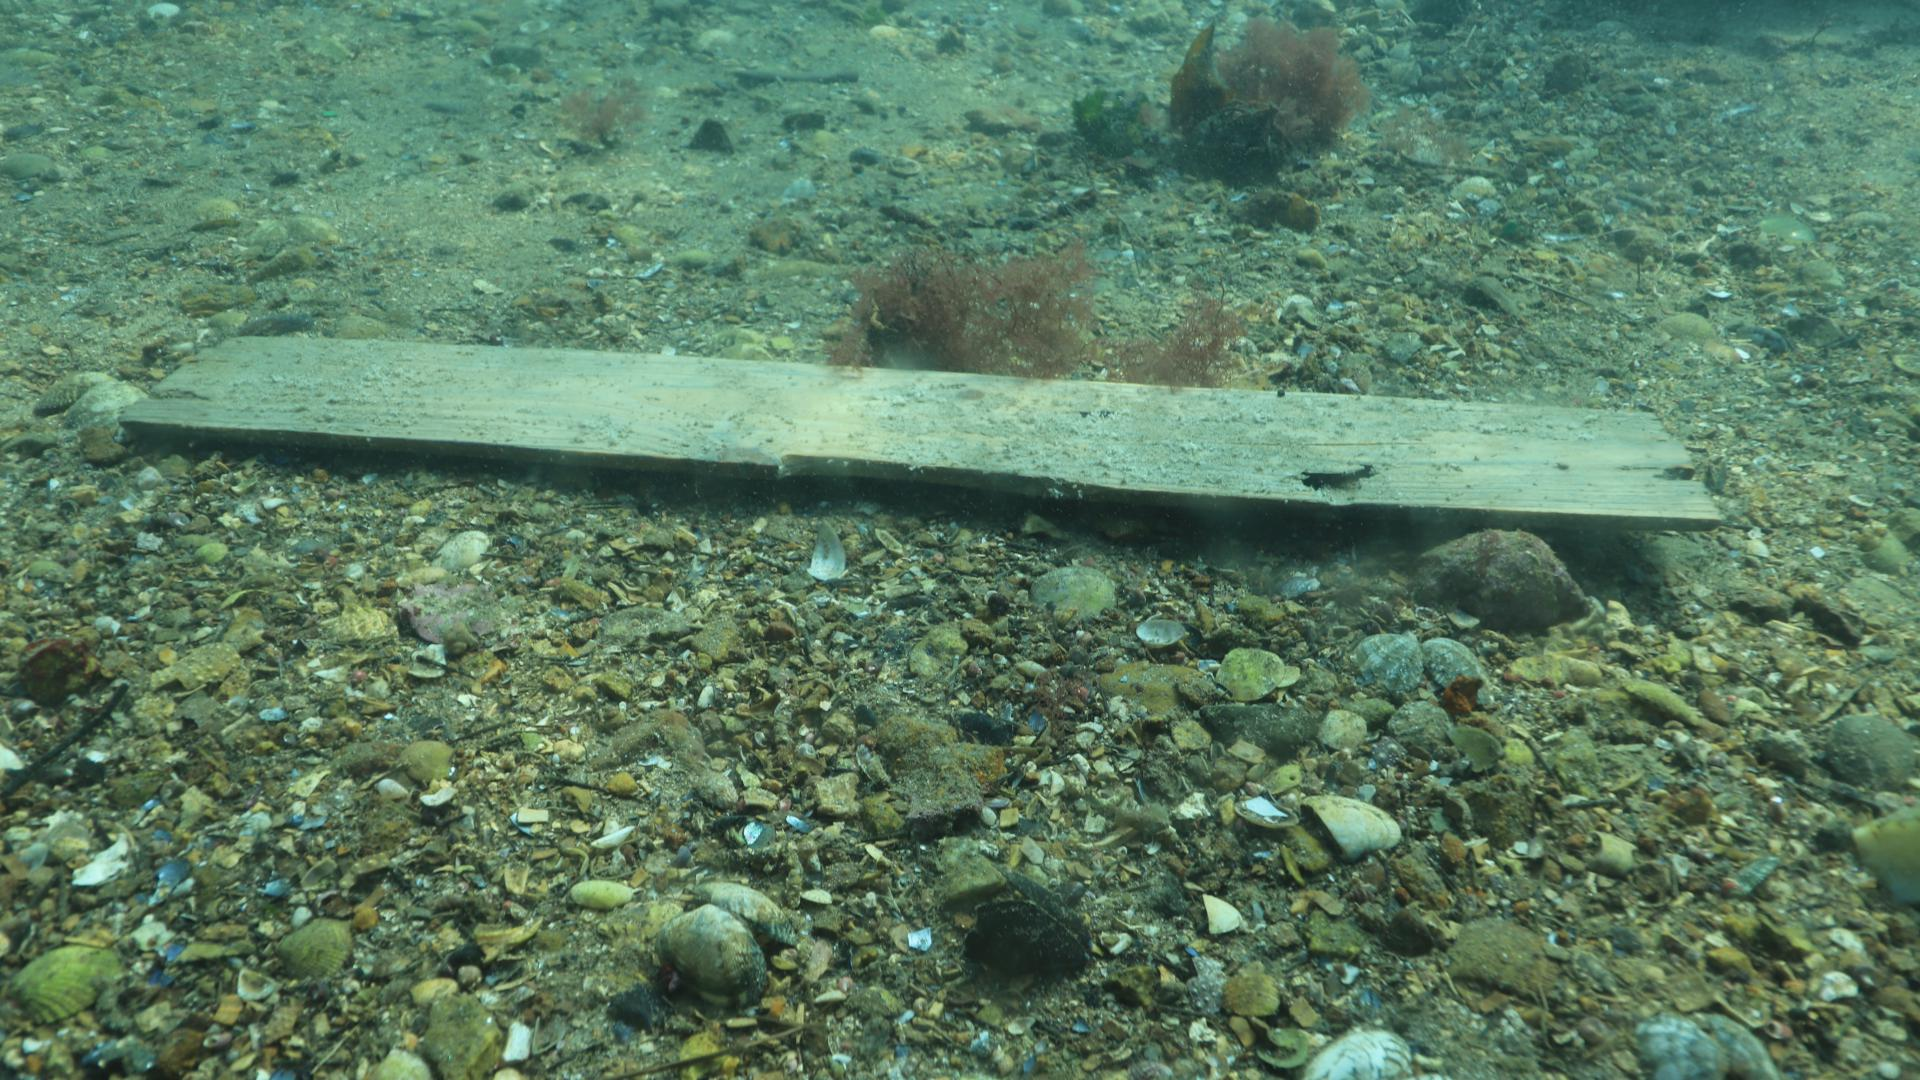wood: (115, 332, 1721, 531)
